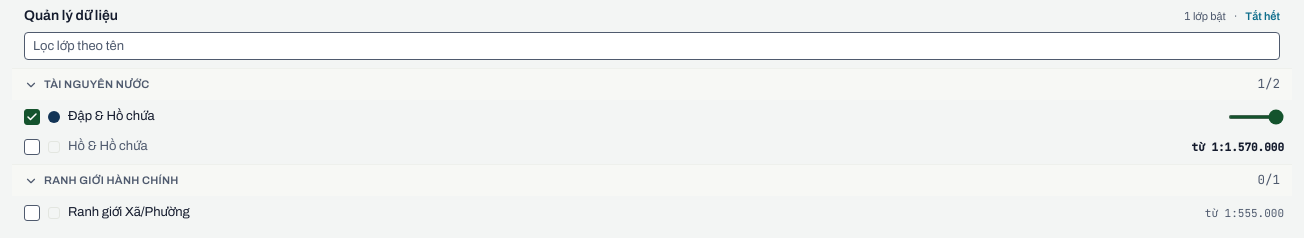
Test: LayersPanelView › shows a filtered group open even after it was folded
The image size is (1304, 238).
Click the button "Tài nguyên nước 1/2": x=97, y=84 [12, 68, 1292, 100]
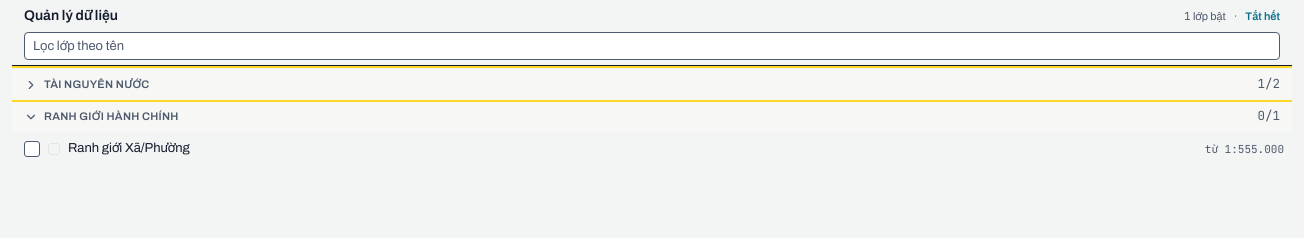
In the search field labelled "Lọc lớp": x=652, y=46 [24, 32, 1280, 60], type "đập"
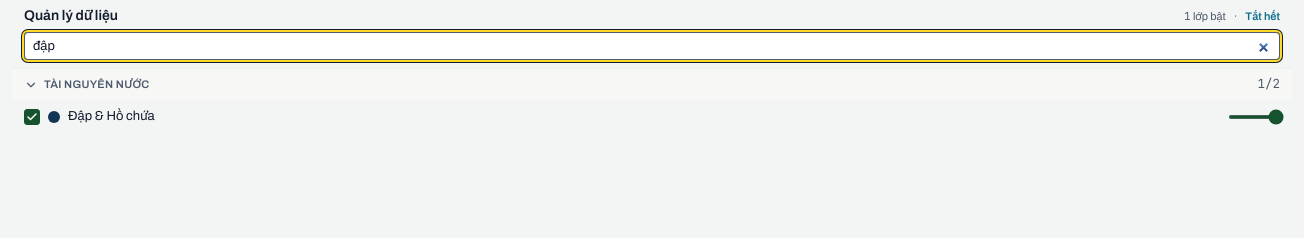
Result: the checkbox named "Đập & Hồ chứa" is shown at [24, 109, 40, 125]
